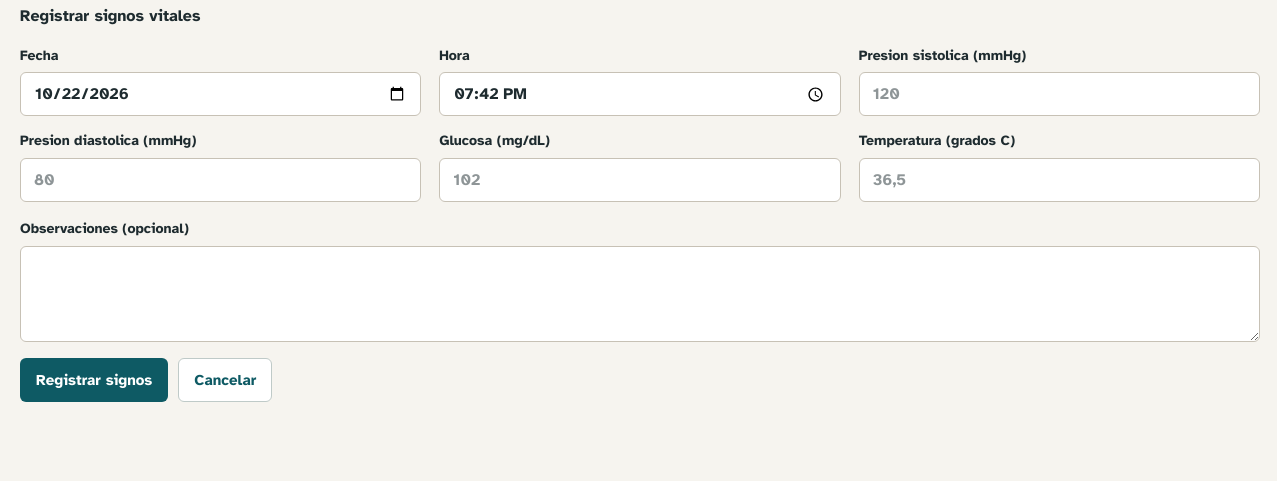
FormularioSignosVitales › muestra el error contextual ante un 400 VALIDACION del backend
This screenshot has width=1277, height=481.
Type "2026-01-20" into the date field labelled "Fecha" at (221,94), box left=20, top=72, right=421, bottom=116
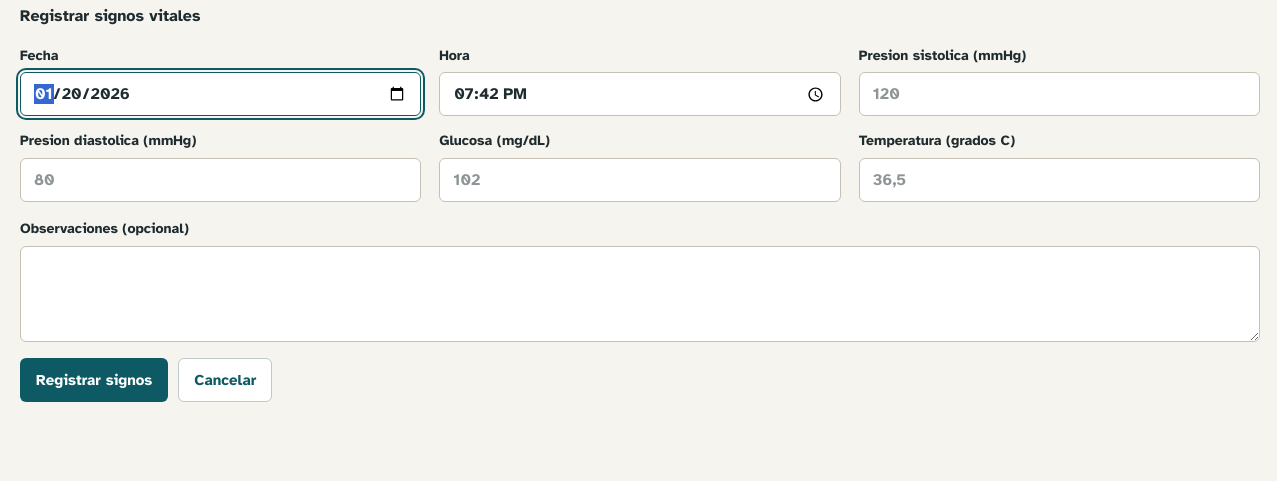
Replace the text in the time field labelled "Hora" with "09:00" at (640,94), box left=439, top=72, right=841, bottom=116
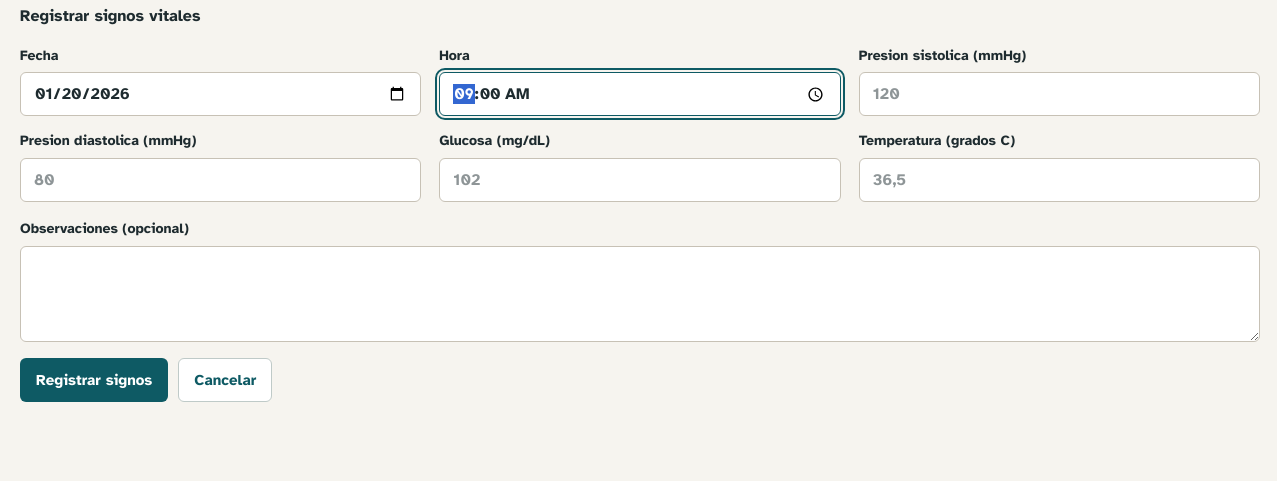
Type "100" into the field labelled "Glucosa (mg/dL)" at (640,180), box left=439, top=158, right=841, bottom=202
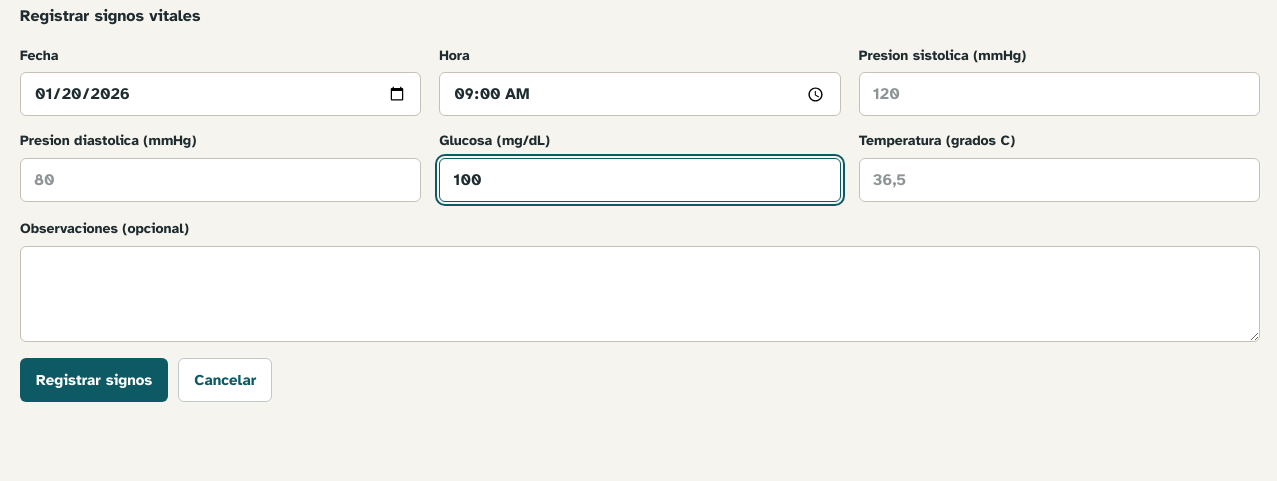
Click the button "Registrar signos" at (94,380), box left=20, top=358, right=168, bottom=402
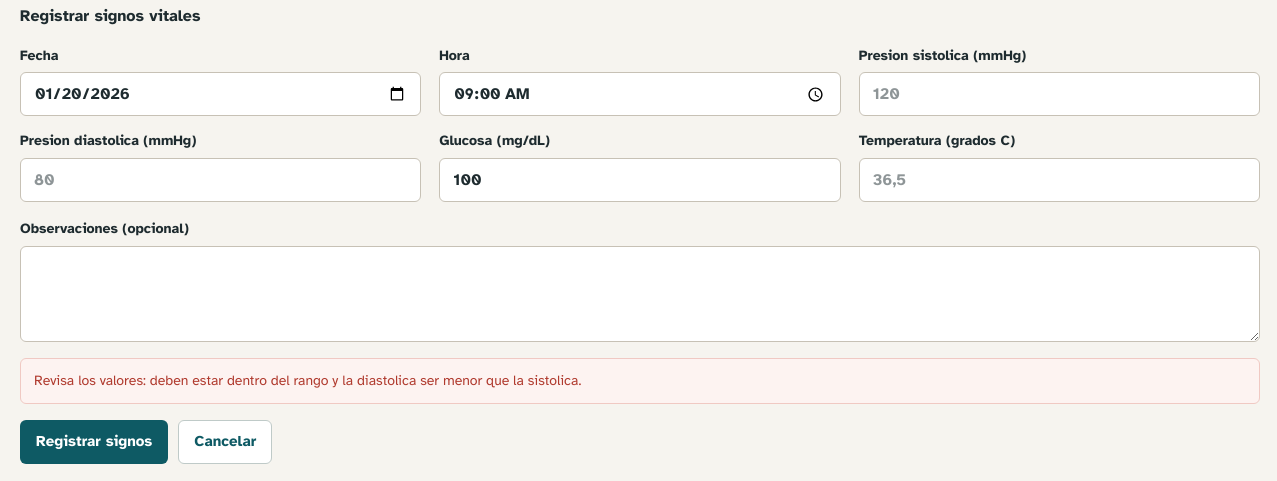
Result: the text "deben estar dentro del rango y la diastolica ser menor" is shown at left=34, top=372, right=581, bottom=389
